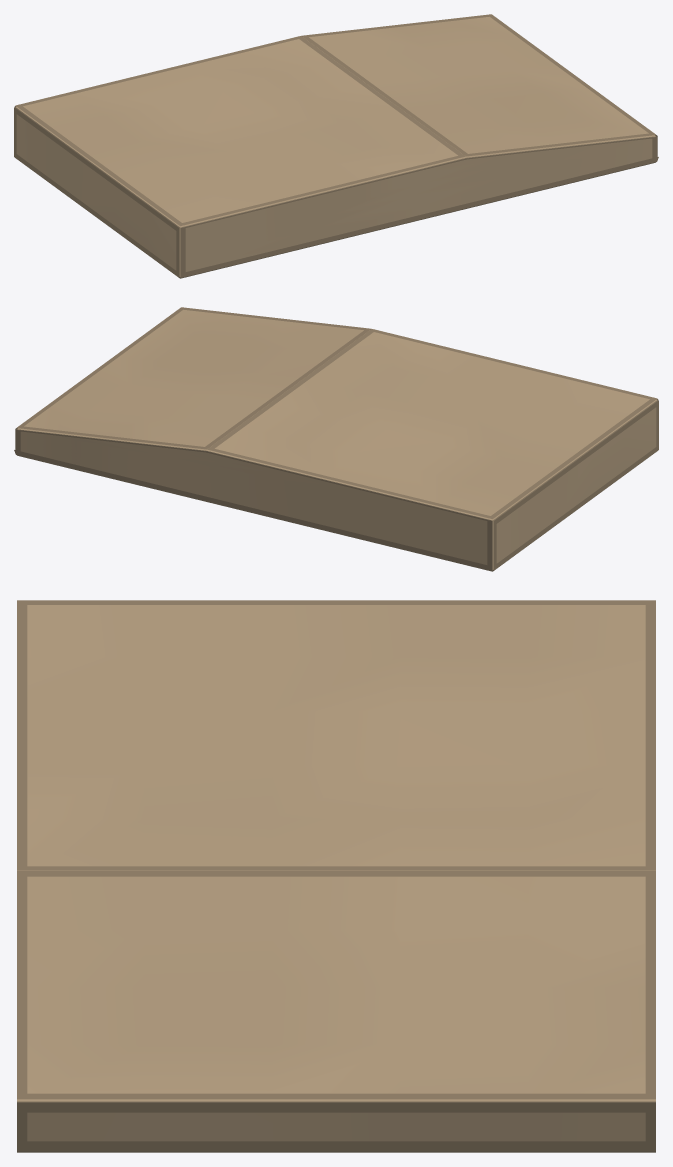
The model's file is wedge.glb.
3 views of the same model, one above another, from view 1: azimuth 30°, elevation 25°; view 2: azimuth 150°, elevation 25°; view 3: azimuth 270°, elevation 25° (orthographic). The views are drawn at different scales.
Parts seen in each view (by area): view 1: wedge; view 2: wedge; view 3: wedge.
Boxes of the visible parts, x1,y1,x2,y2 form: wedge: (14,14,658,278); wedge: (14,307,658,571); wedge: (17,600,655,1152).
Size of the model in its own units: 0.151 by 0.0158 by 0.0908.
